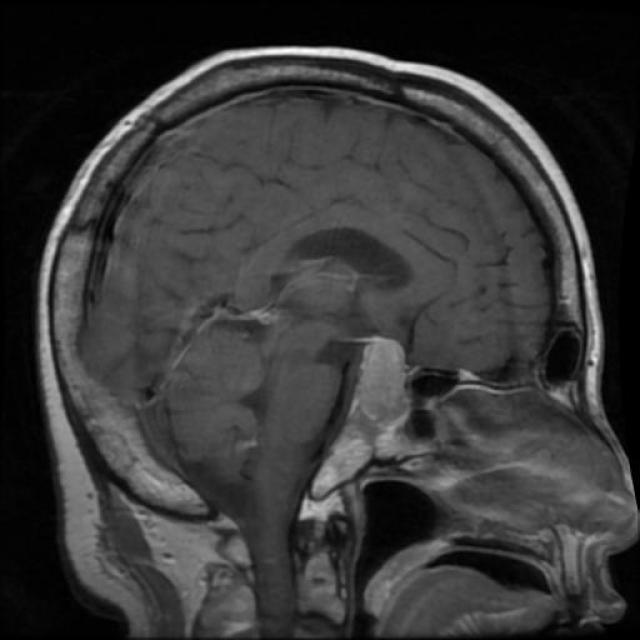pituitary: (300, 318, 415, 478)
